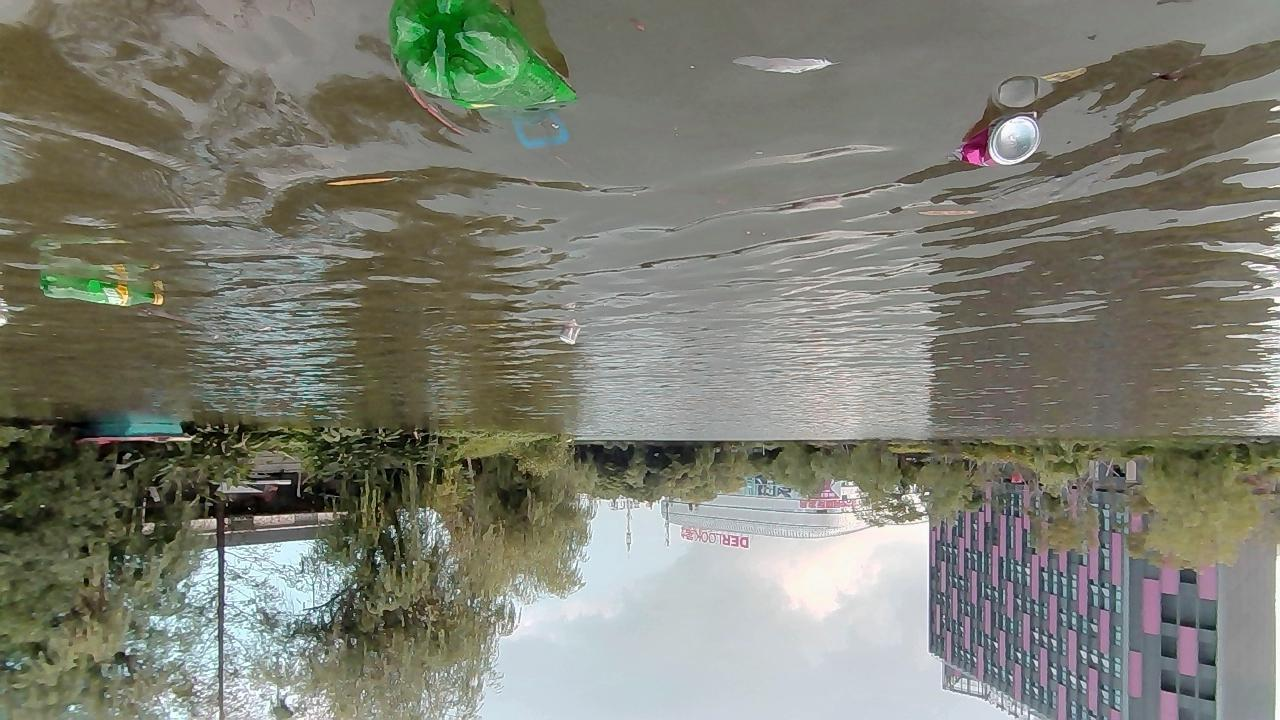Metal: (957, 111, 1044, 170)
Plastic: (387, 0, 579, 122), (38, 272, 164, 309), (559, 325, 581, 345)
